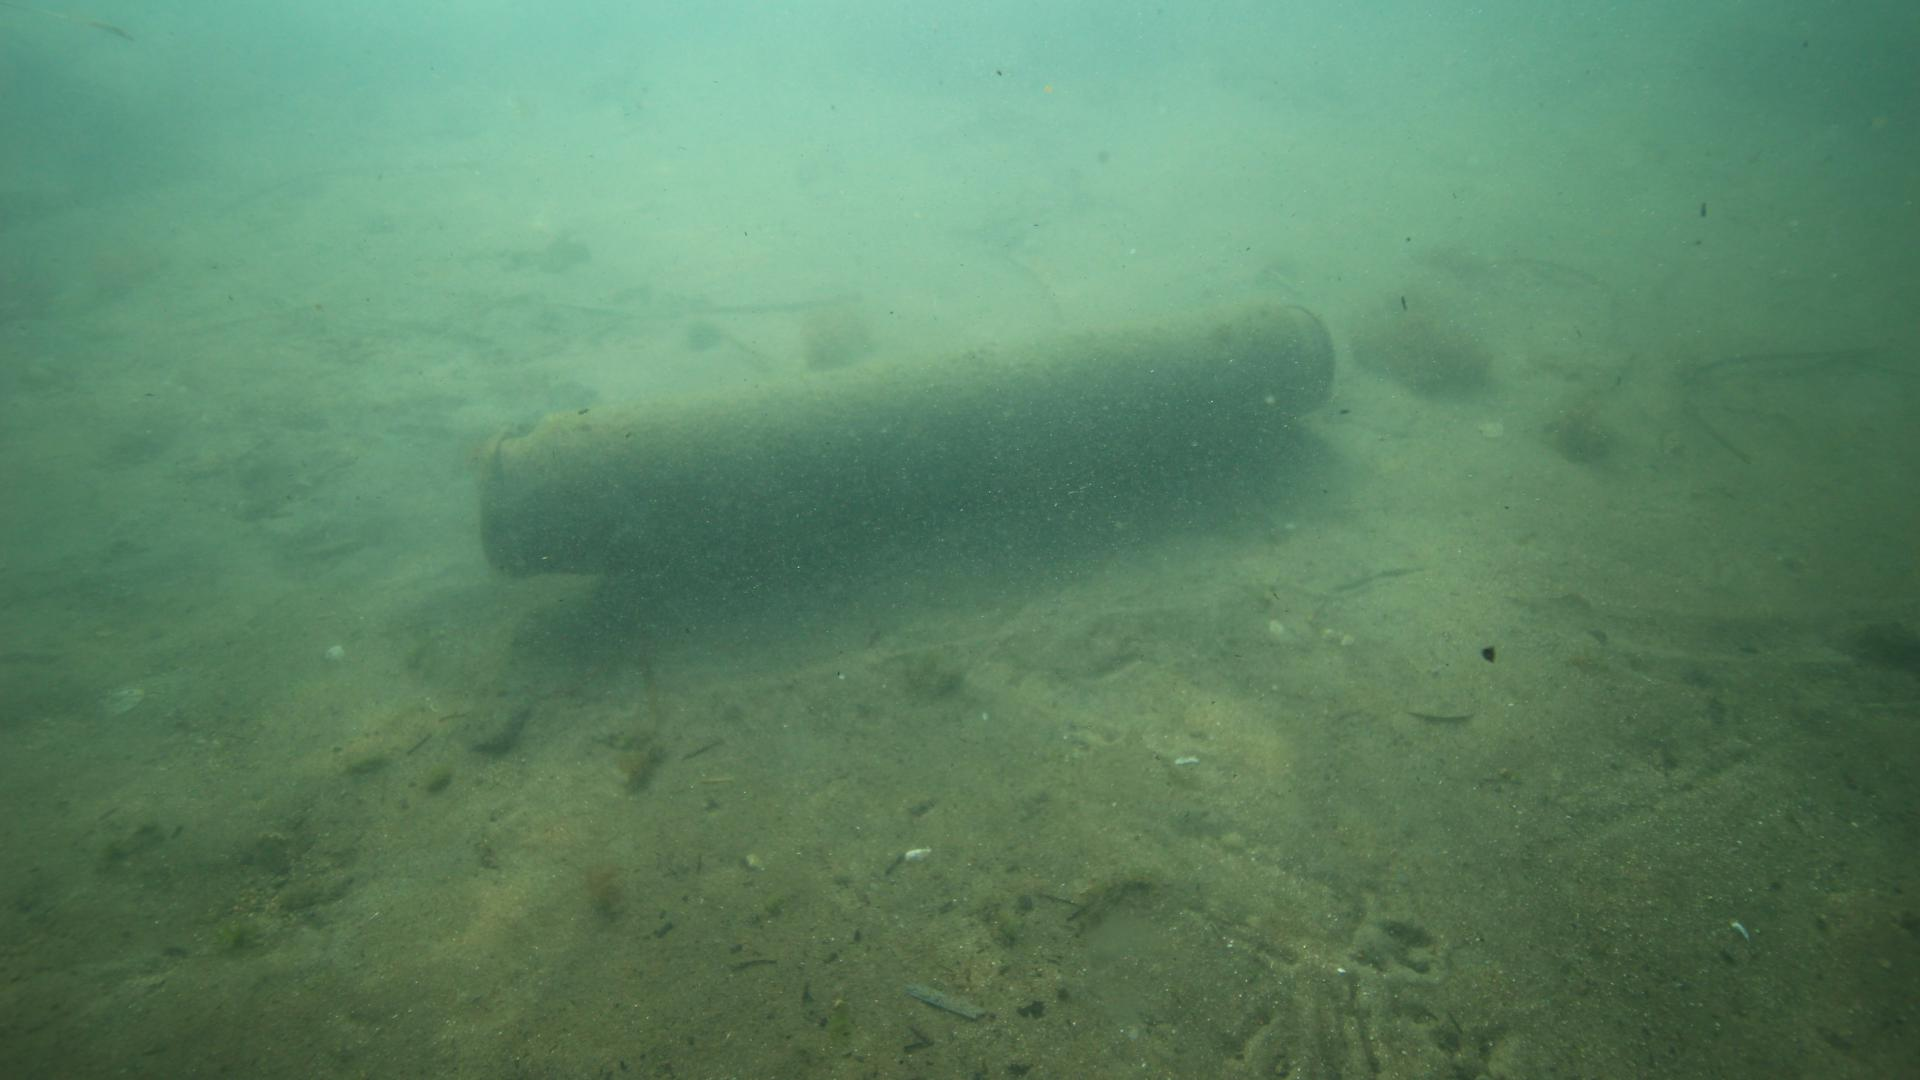eel fish trap: (471, 297, 1341, 574)
